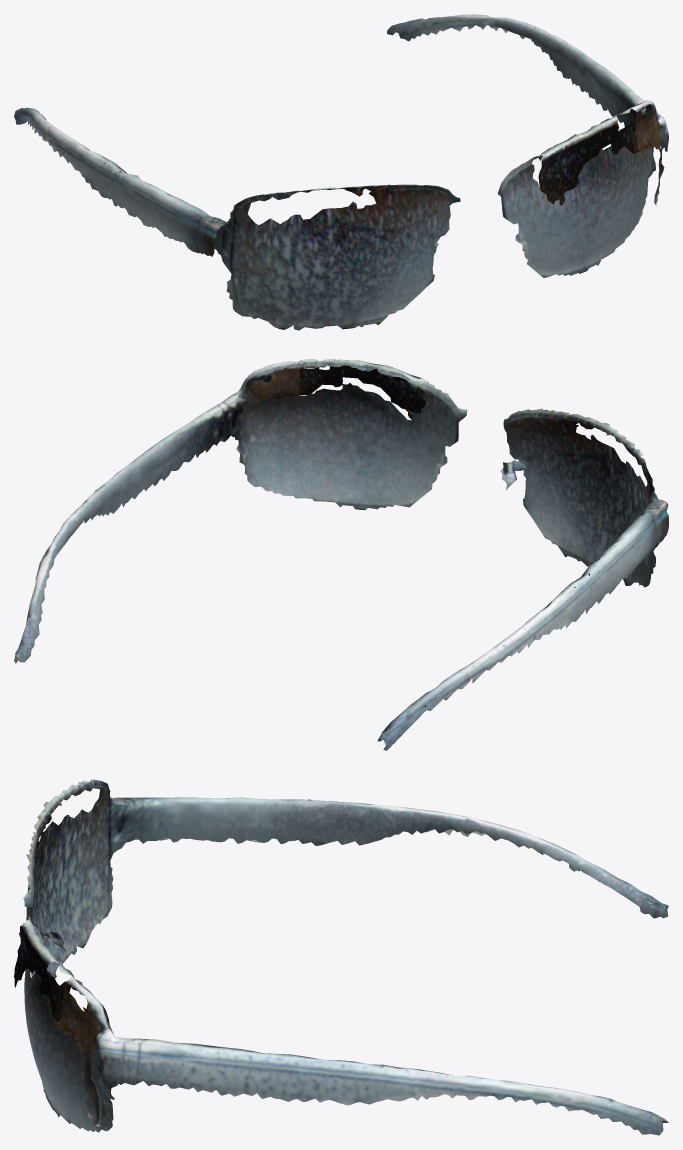
The model's file is scan_align.obj.
3 views of the same model, one above another, from view 1: azimuth 30°, elevation 25°; view 2: azimuth 150°, elevation 25°; view 3: azimuth 270°, elevation 25° (orthographic). The views are drawn at different scales.
Bounding box in the file's own units: 0.1483 × 0.0435 × 0.1547.
Materials: 1 (1 with a texture image).
